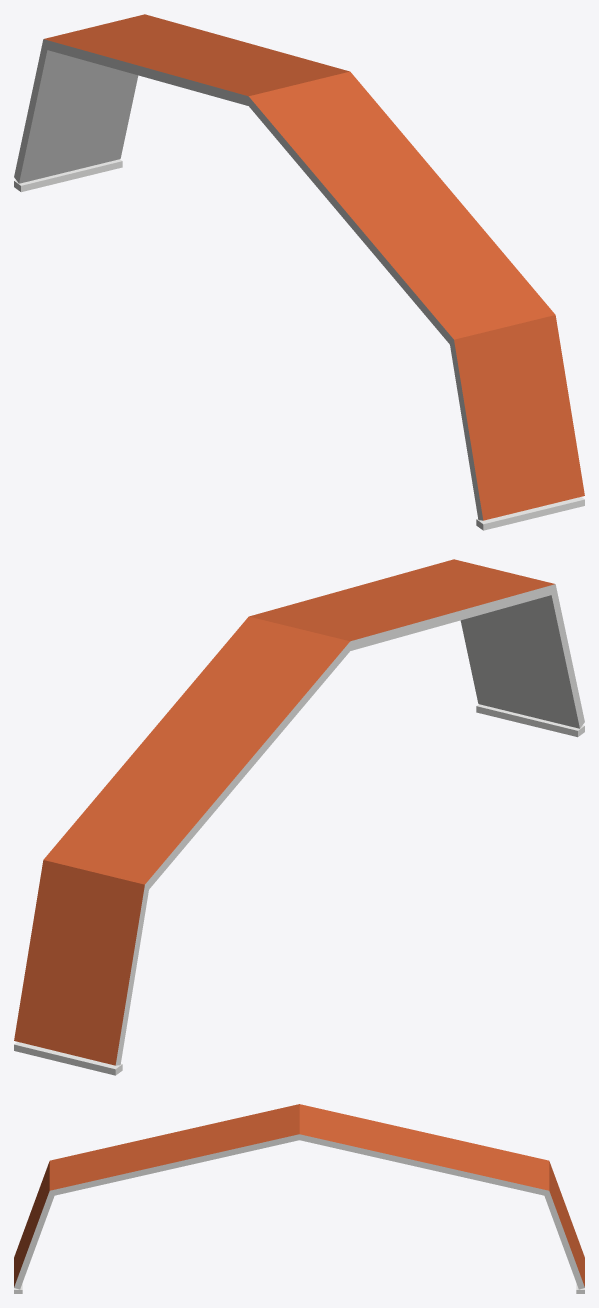
The model's file is telhado_mansarda_v8_1m.glb.
3 views of the same model, one above another, from view 1: azimuth 30°, elevation 25°; view 2: azimuth 150°, elevation 25°; view 3: azimuth 270°, elevation 25° (orthographic). The views are drawn at different scales.
Visible parts, largest first — view 1: telhado_mansarda_v8_1m; view 2: telhado_mansarda_v8_1m; view 3: telhado_mansarda_v8_1m.
Part boxes in pixels (bbox=[...]): telhado_mansarda_v8_1m: bbox=[14, 14, 584, 530]; telhado_mansarda_v8_1m: bbox=[14, 559, 584, 1075]; telhado_mansarda_v8_1m: bbox=[14, 1104, 584, 1293].
Size of the model in its own units: 1 by 2.47 by 8.
